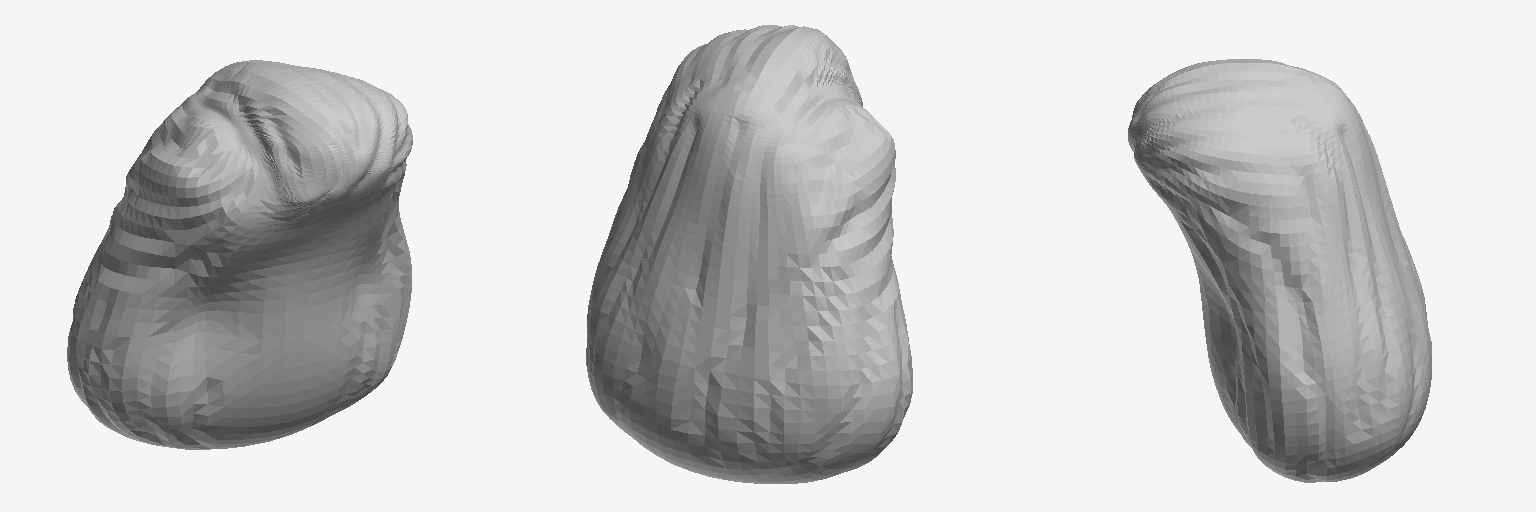
Rendered from amandaModelHair.obj.
3 views of the same model, side by side, from view 1: azimuth 30°, elevation 25°; view 2: azimuth 150°, elevation 25°; view 3: azimuth 270°, elevation 25° (orthographic).
Visible parts, largest first — view 1: Cube; view 2: Cube; view 3: Cube.
Part boxes in pixels (bbox=[...]): Cube: bbox=[67, 60, 412, 449]; Cube: bbox=[586, 25, 912, 483]; Cube: bbox=[1128, 59, 1431, 482].
Bounding box in the file's own units: 0.3624 × 0.4353 × 0.305.